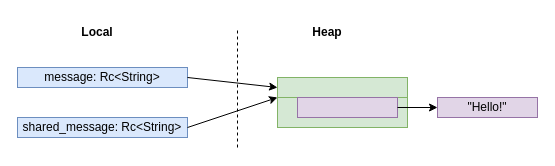
Image size: 555x166. Some labels were removed from this diagram. The shapes that lost their labels are listed below. From the top down, each one's box as (x1, y1, x2, y2) in pixels, then its label:
(276, 76, 408, 98): refcount: 2
(296, 96, 398, 118): String (len: 6)
